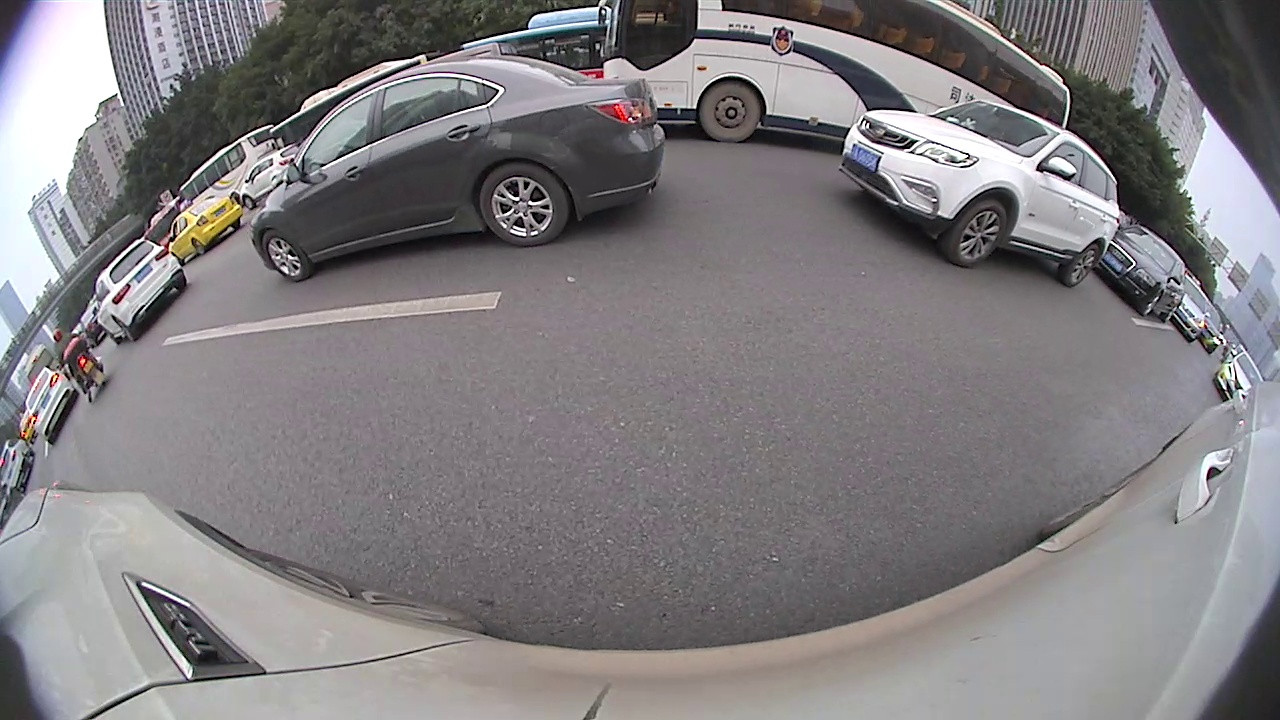bus: (597, 3, 1072, 146), (263, 51, 431, 150), (462, 19, 613, 84), (176, 121, 281, 209)
car: (248, 53, 668, 283), (837, 95, 1121, 291), (88, 235, 190, 346), (1099, 219, 1189, 320), (164, 193, 238, 261), (22, 368, 79, 443), (235, 143, 296, 209), (1169, 274, 1215, 345), (1213, 346, 1267, 405), (1, 439, 36, 493), (1193, 306, 1225, 355)
front: (945, 197, 1007, 266), (701, 80, 762, 142), (262, 232, 307, 281), (1140, 291, 1165, 314)
rear: (478, 164, 568, 244), (1058, 246, 1103, 285), (1159, 304, 1181, 320), (193, 239, 205, 255)
rider: (52, 329, 107, 401)
